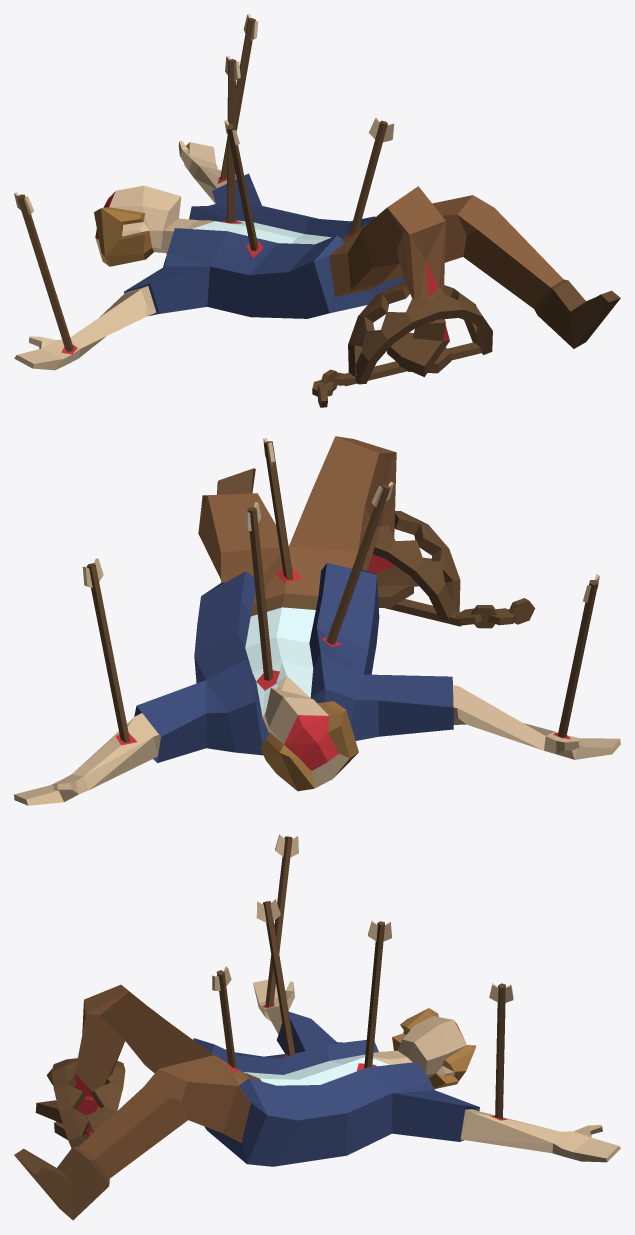
The model's file is apocalypse_man-pedestrian_dead-c.fbx.
The picture shows the model from 3 angles, top to bottom: view 1: azimuth 30°, elevation 25°; view 2: azimuth 150°, elevation 25°; view 3: azimuth 270°, elevation 25°; orthographic projection. The views are drawn at different scales.
Visible parts, largest first — view 1: apocalypse_man_pedestrian_dead_c; view 2: apocalypse_man_pedestrian_dead_c; view 3: apocalypse_man_pedestrian_dead_c.
Boxes of the visible parts, x1,y1,x2,y2 form: apocalypse_man_pedestrian_dead_c: [14, 14, 620, 407]; apocalypse_man_pedestrian_dead_c: [14, 436, 620, 805]; apocalypse_man_pedestrian_dead_c: [14, 835, 620, 1220].
Size of the model in its own units: 177 by 75.58 by 200.
